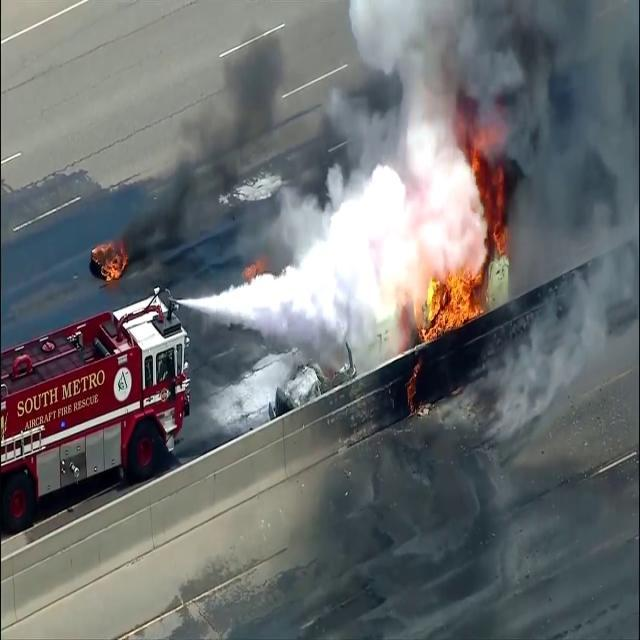Fire: (418, 249, 482, 341), (90, 234, 127, 284)
Smoke: (314, 1, 636, 288), (128, 12, 292, 258)
